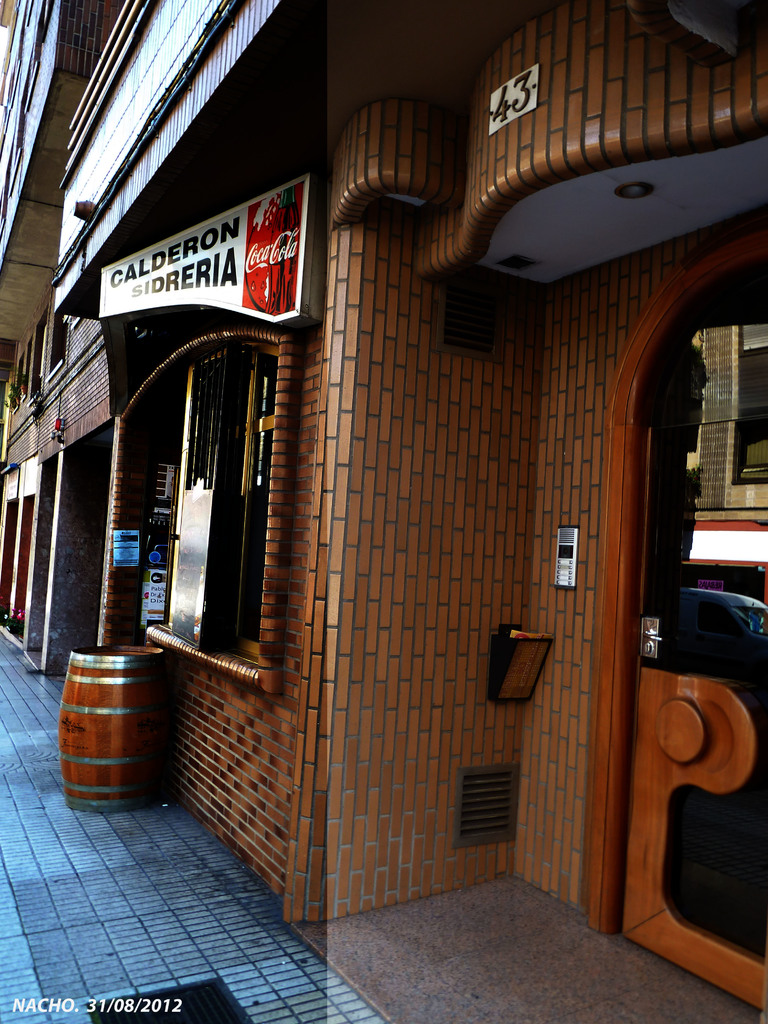Door: (616, 299, 767, 1009)
